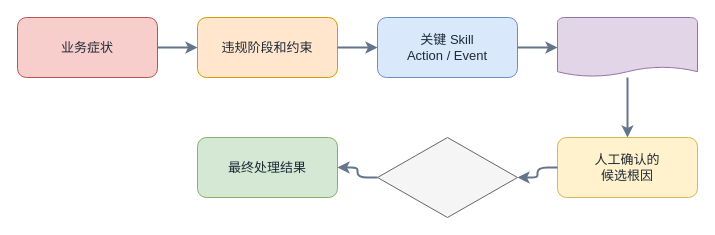
Image size: 715x235. Some labels were removed from this diagram. The shapes that lost their labels are listed below. From the top down, each one's box as (x1, y1, x2, y2) in pixels, then its label:
(556, 16, 698, 78): 证据引用
(376, 136, 518, 218): 应拦截问题的 Gate
